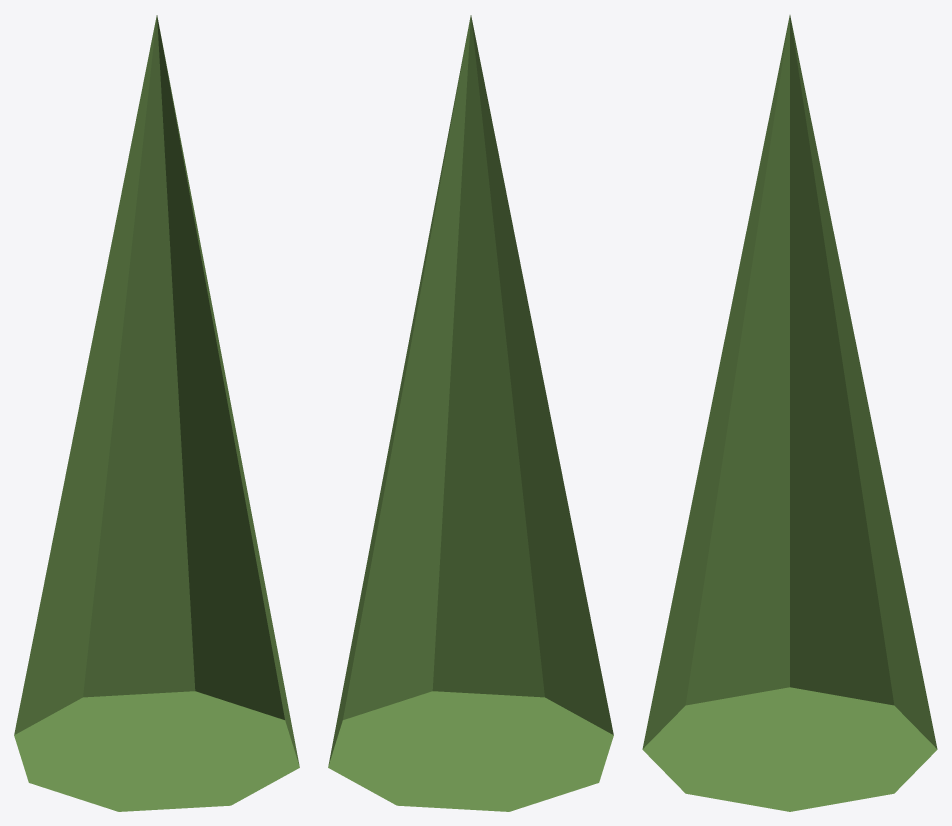
Rendered from tree_birch.glb.
3 renders of one model, left to right at view 1: azimuth 30°, elevation 25°; view 2: azimuth 150°, elevation 25°; view 3: azimuth 270°, elevation 25°, orthographic.
Parts seen in each view (by area): view 1: Birch; view 2: Birch; view 3: Birch.
Boxes of the visible parts, x1,y1,x2,y2 form: Birch: (14,15,299,811); Birch: (328,15,613,811); Birch: (642,15,937,811).
Bounding box in the file's own units: 0.8 × 2.2 × 0.8.
